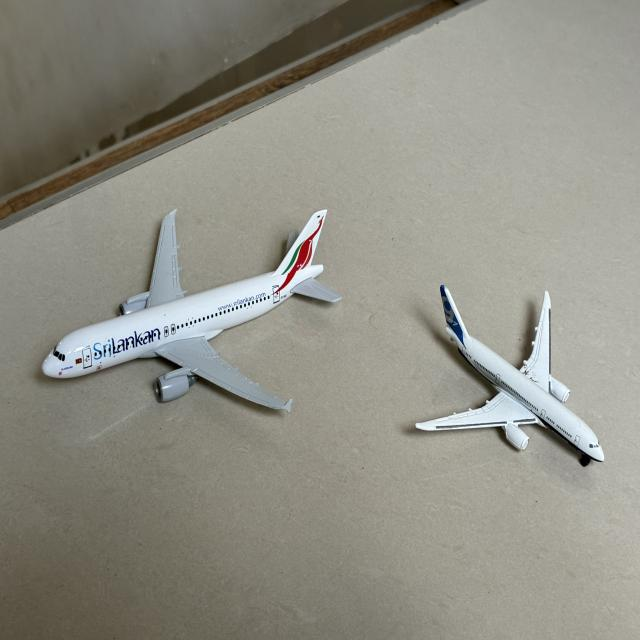air-plane: (42, 210, 340, 411), (416, 286, 604, 466)
